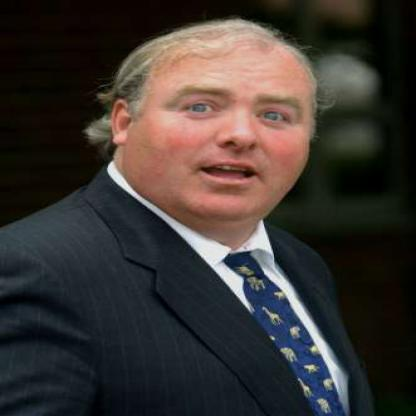face: (133, 28, 329, 224)
